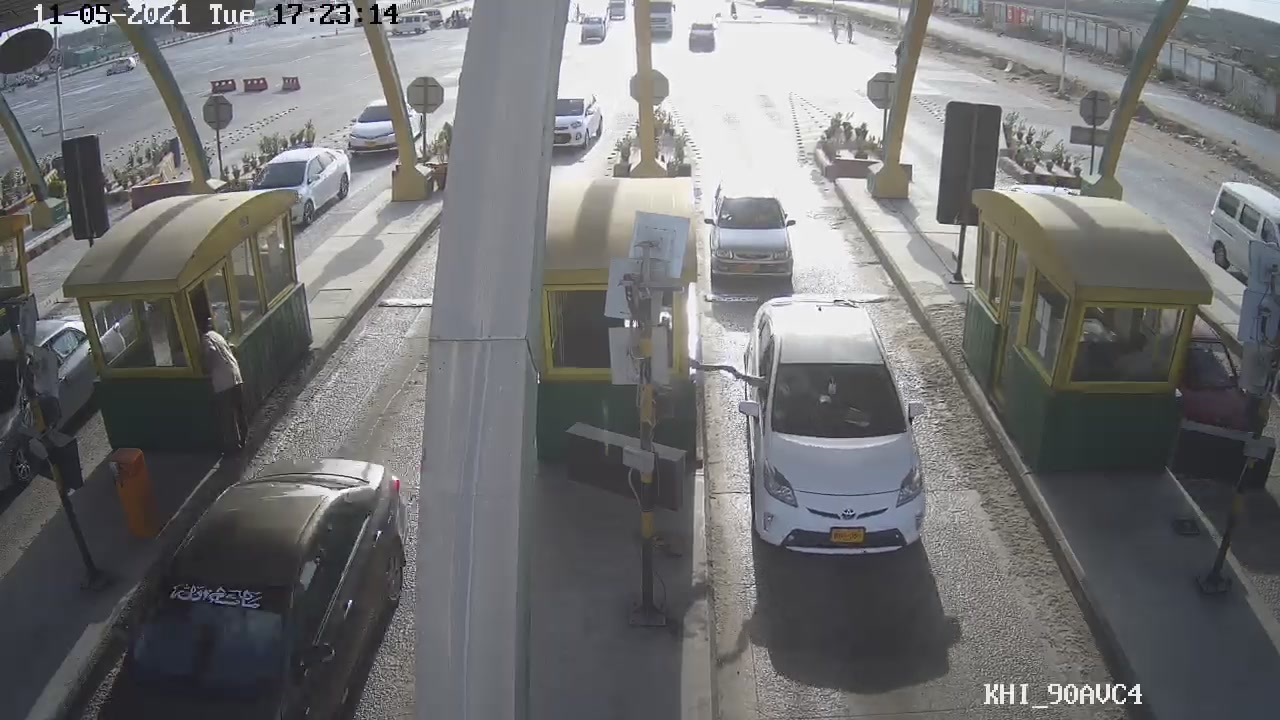F1: (734, 285, 927, 561), (700, 189, 804, 298)
